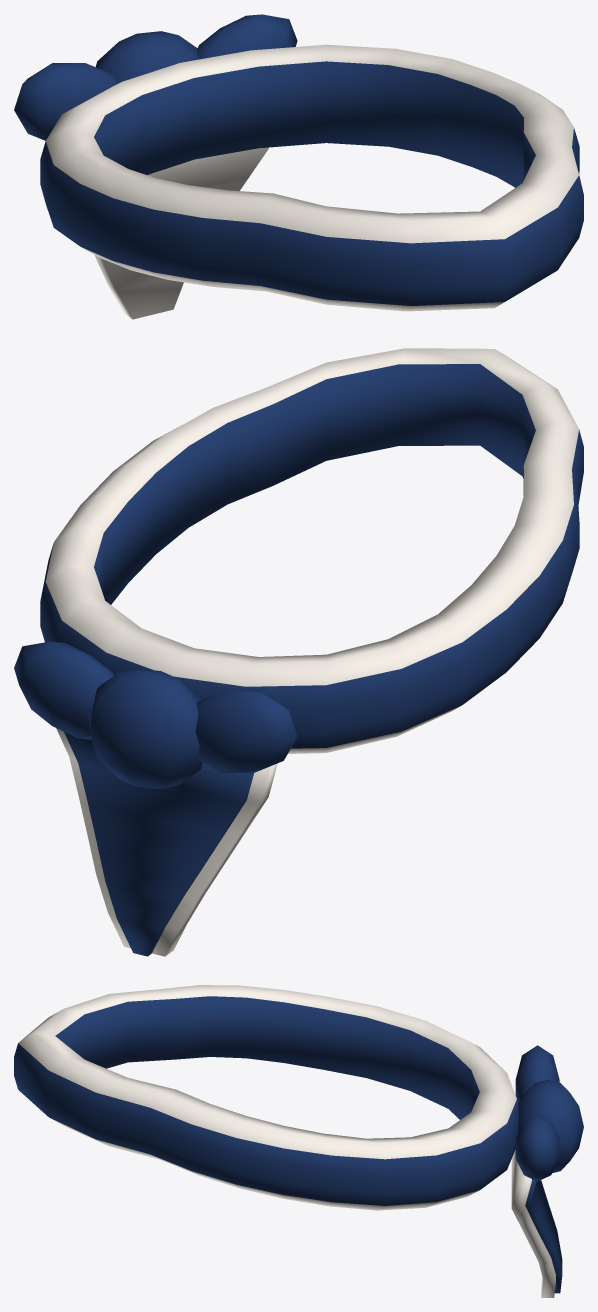
File: foulard_marin.fbx
The picture shows the model from 3 angles, top to bottom: view 1: azimuth 30°, elevation 25°; view 2: azimuth 150°, elevation 25°; view 3: azimuth 270°, elevation 25°; orthographic projection. The views are drawn at different scales.
Visible parts, largest first — view 1: Foulard, Anim_Pointe; view 2: Foulard, Anim_Pointe; view 3: Foulard, Anim_Pointe.
Part boxes in pixels (x1=…): Foulard: x1=14, y1=14, x2=583, y2=311; Anim_Pointe: x1=95, y1=147, x2=268, y2=319; Foulard: x1=14, y1=348, x2=583, y2=789; Anim_Pointe: x1=56, y1=728, x2=277, y2=956; Foulard: x1=14, y1=985, x2=583, y2=1210; Anim_Pointe: x1=511, y1=1149, x2=562, y2=1297.
Bounding box in the file's own units: 0.727 × 0.552 × 1.11.
